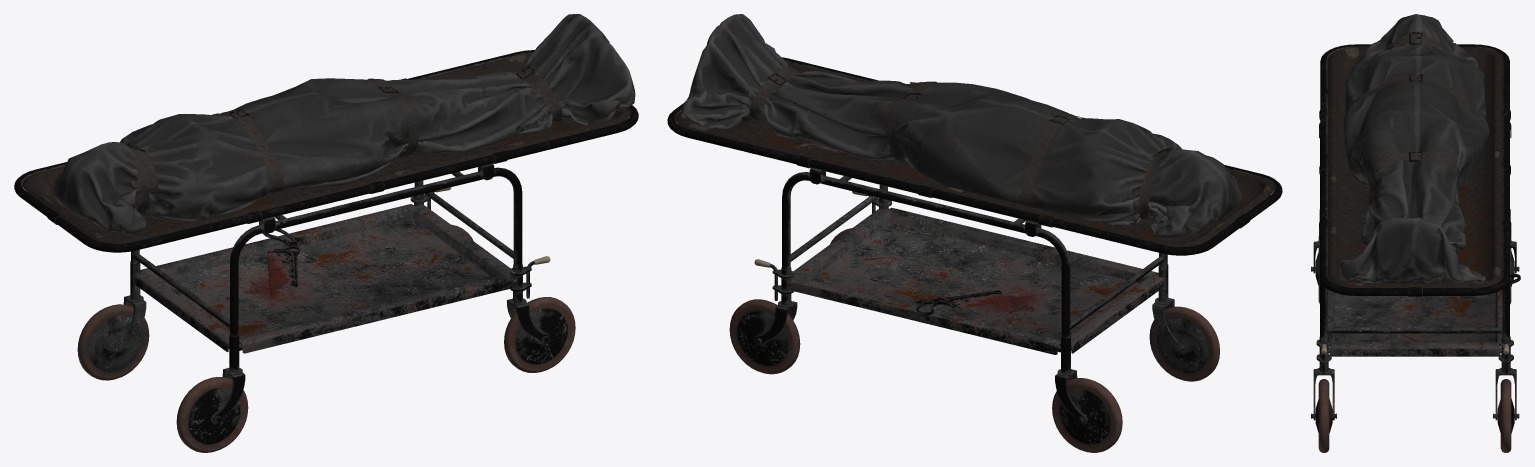
Rendered from body bag_PBR.obj.
3 renders of one model, left to right at view 1: azimuth 30°, elevation 25°; view 2: azimuth 150°, elevation 25°; view 3: azimuth 270°, elevation 25°, orthographic. The views are drawn at different scales.
Visible parts, largest first — view 1: All_reop_katalka, Upakovka, Pila; view 2: All_reop_katalka, Upakovka, Pila; view 3: All_reop_katalka, Upakovka.
Boxes of the visible parts, x1,y1,x2,y2 form: All_reop_katalka: (14,50,638,452); Upakovka: (51,14,635,234); Pila: (262,229,302,298); All_reop_katalka: (667,57,1282,452); Upakovka: (681,14,1242,239); Pila: (915,290,1035,316); All_reop_katalka: (1311,44,1519,452); Upakovka: (1339,14,1489,282).
Bounding box in the file's own units: 1932 × 993 × 692.
